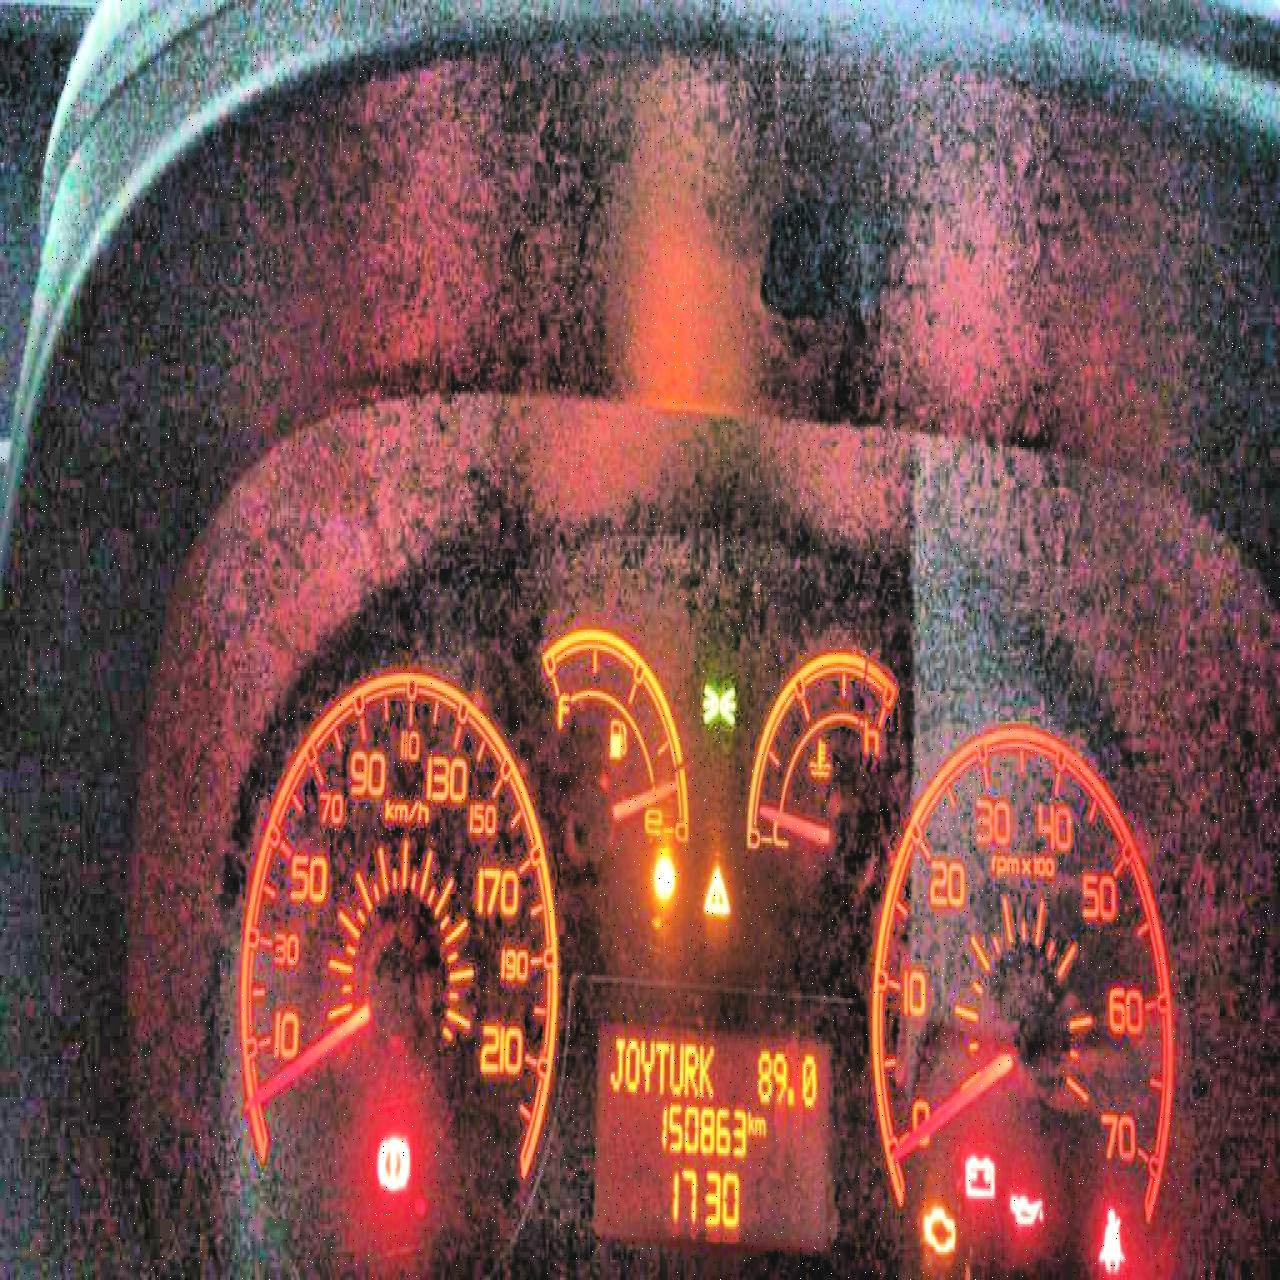-: (786, 1084, 794, 1108)
0: (720, 1168, 739, 1229), (800, 1049, 818, 1107), (682, 1102, 698, 1153)
1: (669, 1166, 679, 1222), (658, 1102, 666, 1151)
3: (702, 1166, 720, 1226), (732, 1107, 746, 1158)
5: (668, 1100, 682, 1153)
6: (714, 1102, 730, 1156)
7: (680, 1163, 698, 1227)
8: (755, 1046, 771, 1105), (698, 1102, 714, 1153)
9: (772, 1046, 786, 1105)
X: (698, 1038, 714, 1100), (638, 1034, 654, 1094), (682, 1039, 698, 1097), (608, 1034, 624, 1090), (625, 1034, 639, 1094), (654, 1036, 668, 1095), (668, 1036, 682, 1095), (754, 1115, 766, 1135), (746, 1105, 754, 1135)
odometer: (588, 1003, 838, 1255)
